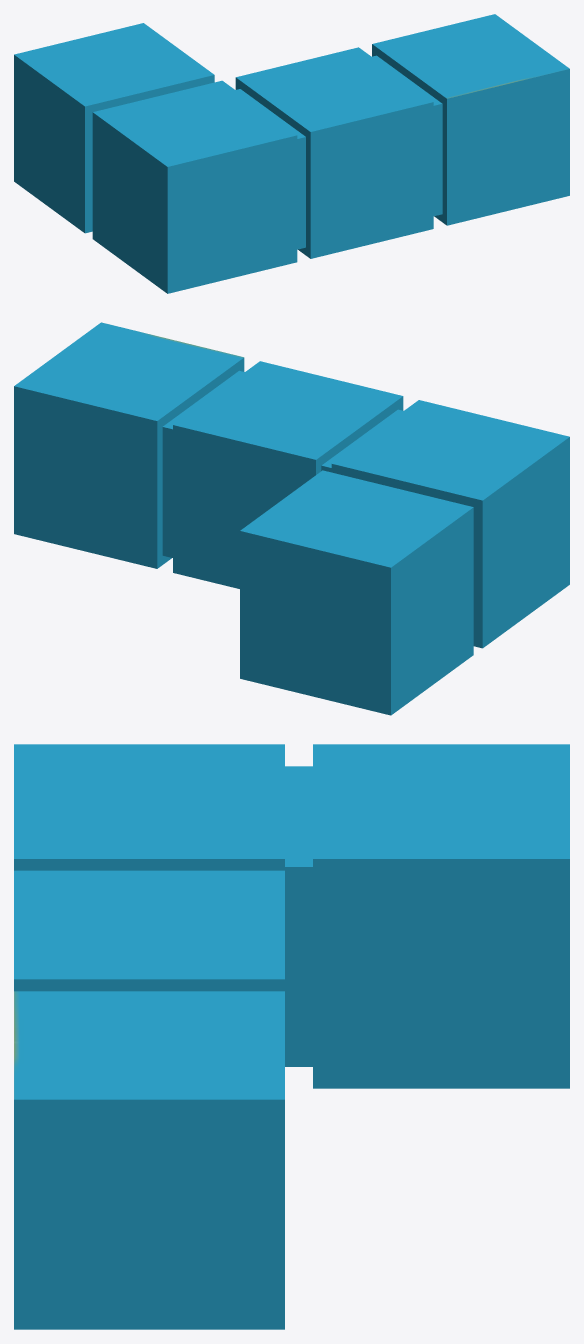
The model's file is block_piece_5.fbx.
3 views of the same model, one above another, from view 1: azimuth 30°, elevation 25°; view 2: azimuth 150°, elevation 25°; view 3: azimuth 270°, elevation 25° (orthographic). The views are drawn at different scales.
Visible parts, largest first — view 1: Piece5; view 2: Piece5; view 3: Piece5.
Part boxes in pixels (x1,y1,x2,y2): Piece5: [14, 14, 569, 293]; Piece5: [14, 322, 569, 715]; Piece5: [14, 744, 569, 1329].
Size of the model in its own units: 72.09 by 21.73 by 47.66.
